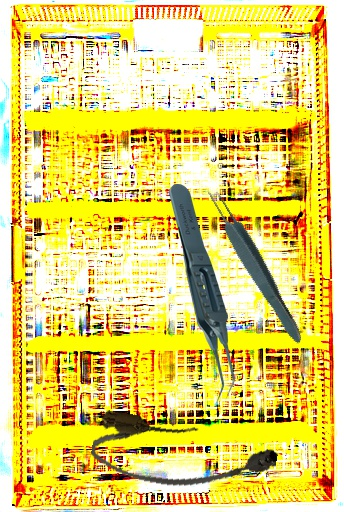Cannula: (87, 408, 281, 504)
Tissue Forceps: (201, 181, 310, 349), (167, 184, 235, 403)
